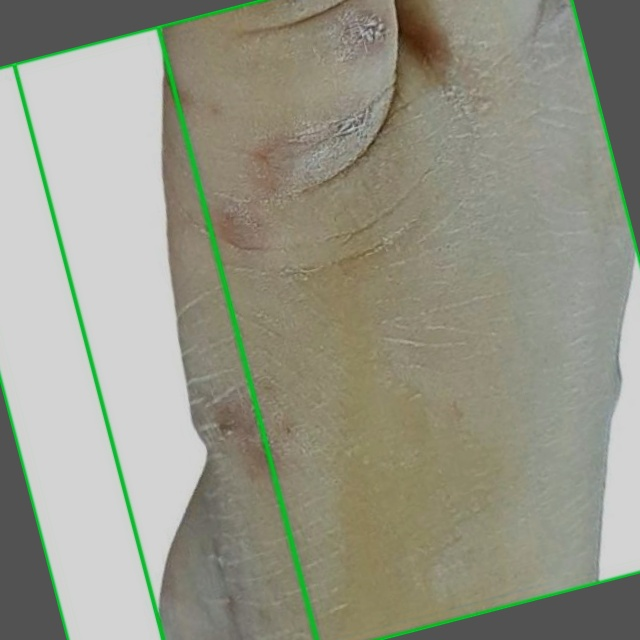Scabies: (14, 0, 639, 639), (0, 26, 316, 639)
